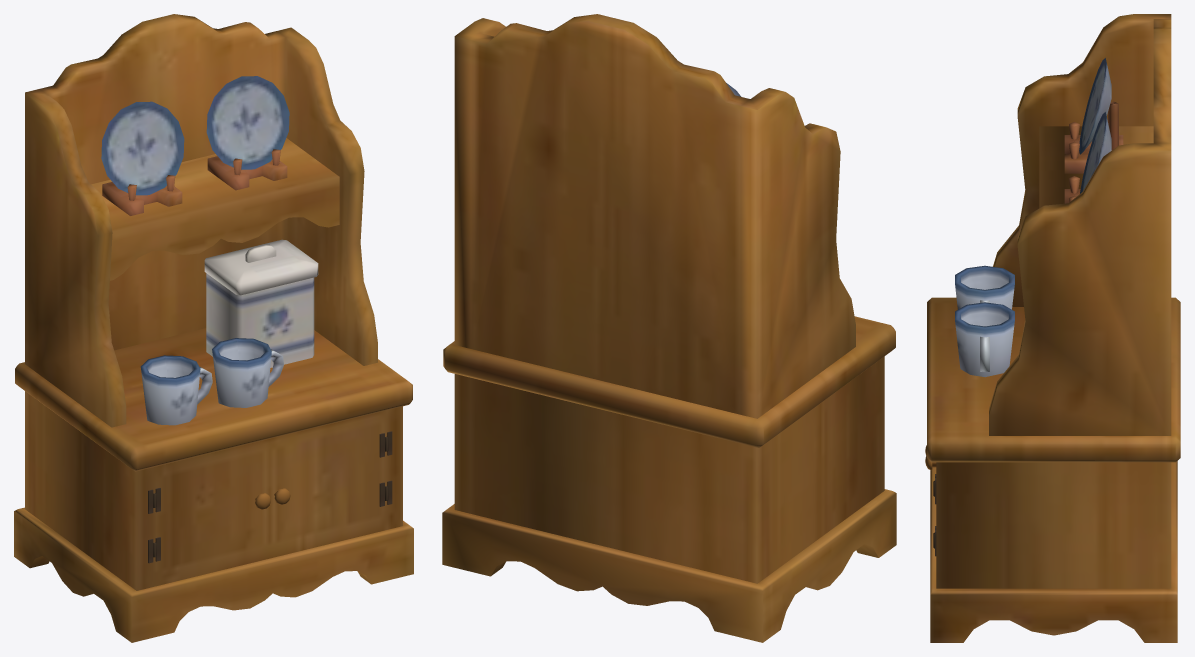
3 views of the same model, side by side, from view 1: azimuth 30°, elevation 25°; view 2: azimuth 150°, elevation 25°; view 3: azimuth 270°, elevation 25° (orthographic). The views are drawn at different scales.
Size of the model in its own units: 9.76 by 16.76 by 7.29.
Materials: 1 (1 with a texture image).
